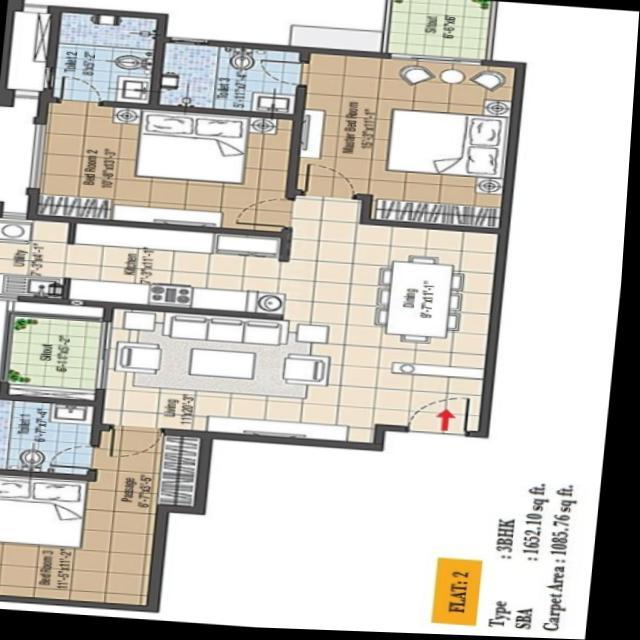Balcony-Sitout: (10, 318, 111, 394), (392, 0, 492, 63)
Bedroom: (35, 103, 299, 237), (0, 477, 176, 616)
Bedroom with Toilet: (156, 43, 520, 232)
Enterance-Foyer: (407, 374, 503, 450)
Kitchen: (80, 220, 286, 317)
Living: (108, 311, 355, 447), (377, 255, 476, 349)
Toilet: (157, 43, 301, 121), (50, 10, 163, 109), (0, 399, 106, 483)
Utility: (0, 220, 80, 309)
